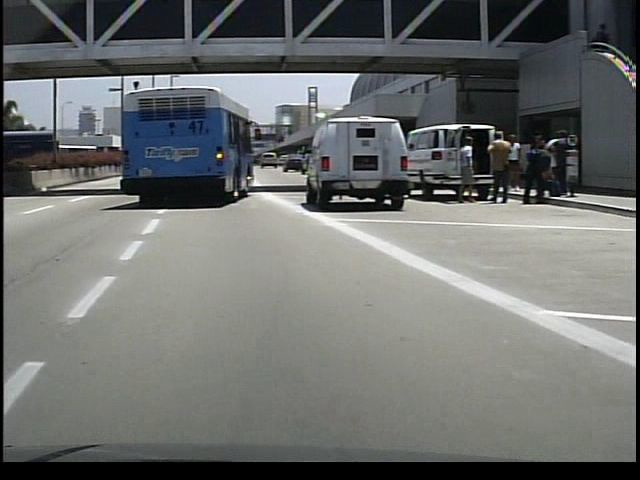person: (482, 129, 510, 208), (452, 133, 476, 206)
